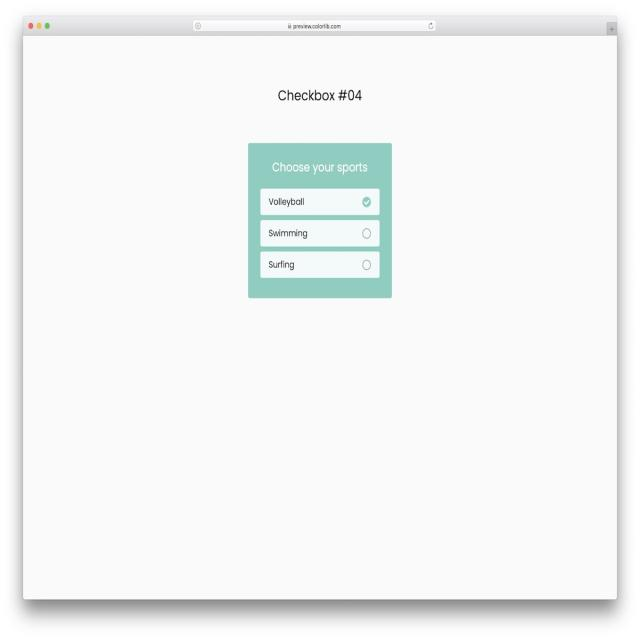checkbox: (263, 194, 378, 212)
radio: (263, 224, 378, 245), (264, 257, 378, 277)
text: (276, 90, 365, 109), (270, 160, 369, 177)
